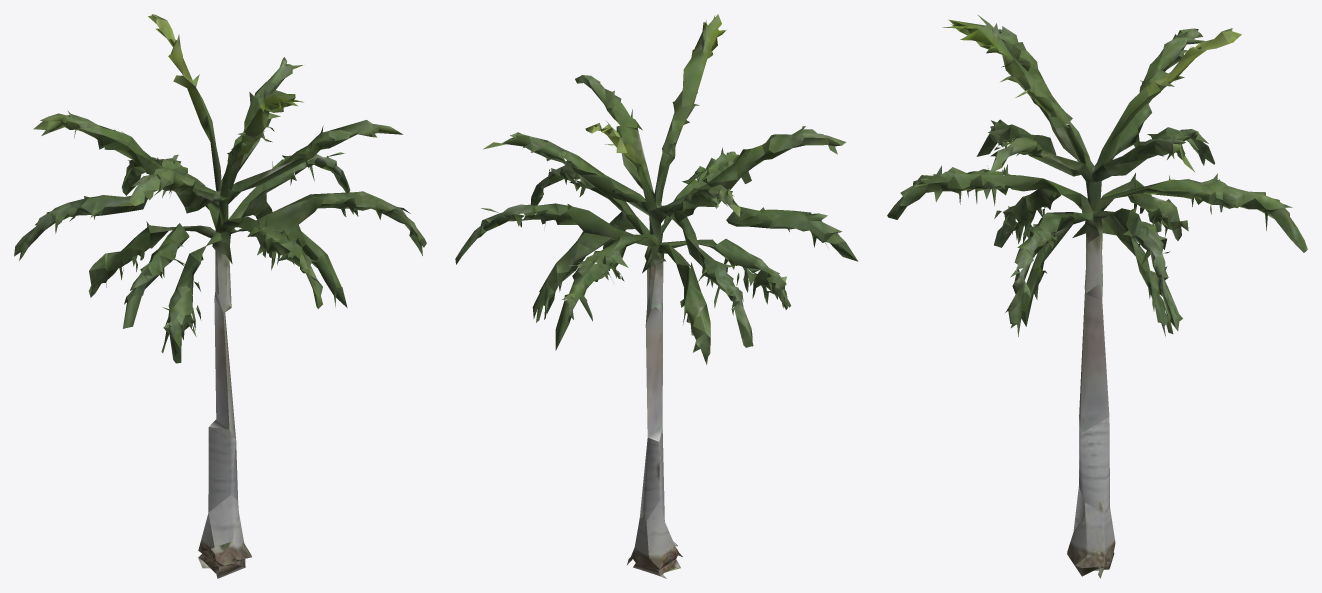
File: palm_lod2.glb
3 renders of one model, left to right at view 1: azimuth 30°, elevation 25°; view 2: azimuth 150°, elevation 25°; view 3: azimuth 270°, elevation 25°, orthographic. The views are drawn at different scales.
Parts seen in each view (by area): view 1: tripo_node_8aacbc84-aa9b-44ff-aac6-08dce0273ab0; view 2: tripo_node_8aacbc84-aa9b-44ff-aac6-08dce0273ab0; view 3: tripo_node_8aacbc84-aa9b-44ff-aac6-08dce0273ab0.
Boxes of the visible parts, <box> form: tripo_node_8aacbc84-aa9b-44ff-aac6-08dce0273ab0: <box>14,14,426,578</box>; tripo_node_8aacbc84-aa9b-44ff-aac6-08dce0273ab0: <box>455,14,858,578</box>; tripo_node_8aacbc84-aa9b-44ff-aac6-08dce0273ab0: <box>887,15,1307,578</box>.
Size of the model in its own units: 0.6267 by 0.979 by 0.6723.
1 material, 1 textured.
